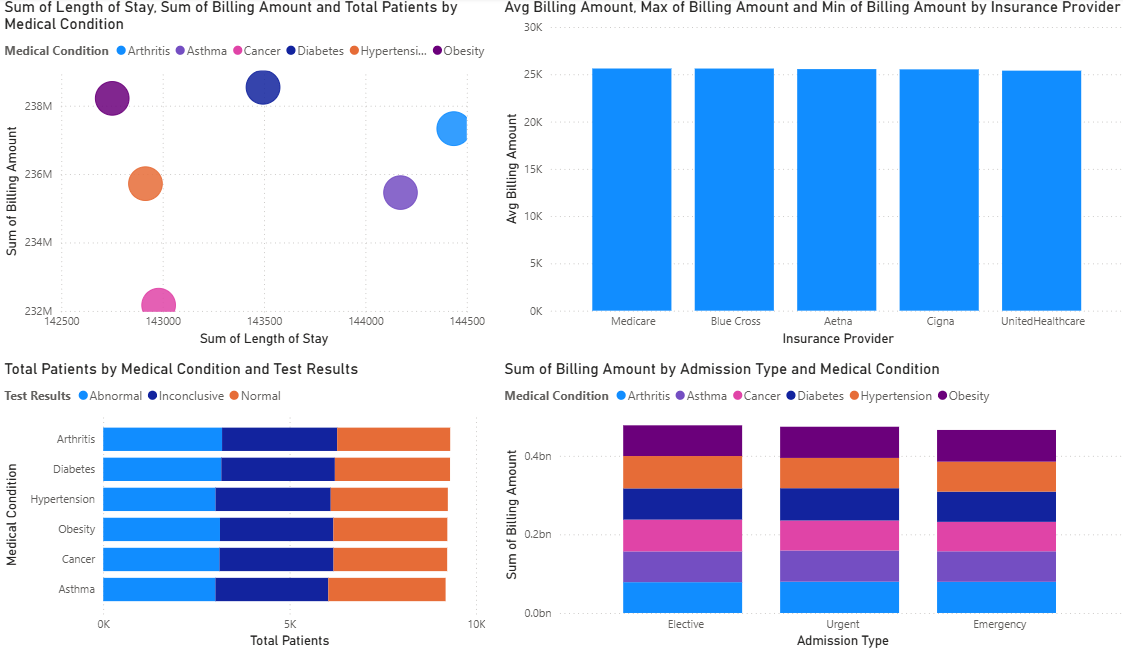

What the dashboard file says about the page in this screenshot:
{"tool":"powerbi","page":{"name":"Advanced Insights","canvas":[1280,720],"ordinal":4},"visuals":[{"type":"scatterChart","fields":{"X":["Sum(healthcare_dataset (2).Length of Stay)"],"Y":["Sum(healthcare_dataset (2).Billing Amount)"],"Series":["healthcare_dataset (2).Medical Condition"],"Size":["healthcare_dataset (2).Total Patients"]},"box":[9.6,0,537.9,388.3],"z":0},{"type":"barChart","fields":{"Category":["healthcare_dataset (2).Medical Condition"],"Y":["healthcare_dataset (2).Total Patients"],"Series":["healthcare_dataset (2).Test Results"]},"box":[10,398,538,322],"z":1},{"type":"columnChart","fields":{"Category":["healthcare_dataset (2).Insurance Provider"],"Y":["healthcare_dataset (2).Avg Billing Amount"]},"box":[558.5,0,691.6,388.3],"z":2},{"type":"columnChart","fields":{"Category":["healthcare_dataset (2).Admission Type"],"Y":["Sum(healthcare_dataset (2).Billing Amount)"],"Series":["healthcare_dataset (2).Medical Condition"]},"box":[558,398,692,322],"z":3}]}

Visuals, with their boxes in screenshot pixels (x1, y1, x2, y2), scaled from the page's 1280x720 canvas onto the 1123x651 screenshot:
scatterChart - Sum(healthcare_dataset (2).Length of Stay) x Sum(healthcare_dataset (2).Billing Amount): rect(8, 0, 480, 351)
barChart - healthcare_dataset (2).Medical Condition x healthcare_dataset (2).Total Patients: rect(9, 360, 481, 650)
columnChart - healthcare_dataset (2).Insurance Provider x healthcare_dataset (2).Avg Billing Amount: rect(490, 0, 1097, 351)
columnChart - healthcare_dataset (2).Admission Type x Sum(healthcare_dataset (2).Billing Amount): rect(490, 360, 1097, 650)
